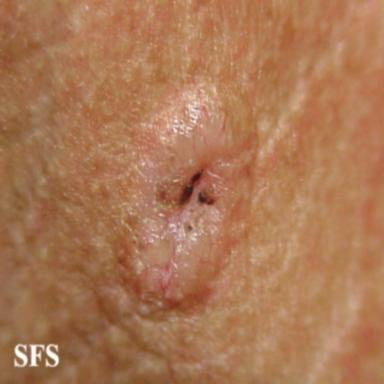basal-cell-carcinoma: (100, 94, 249, 318)
